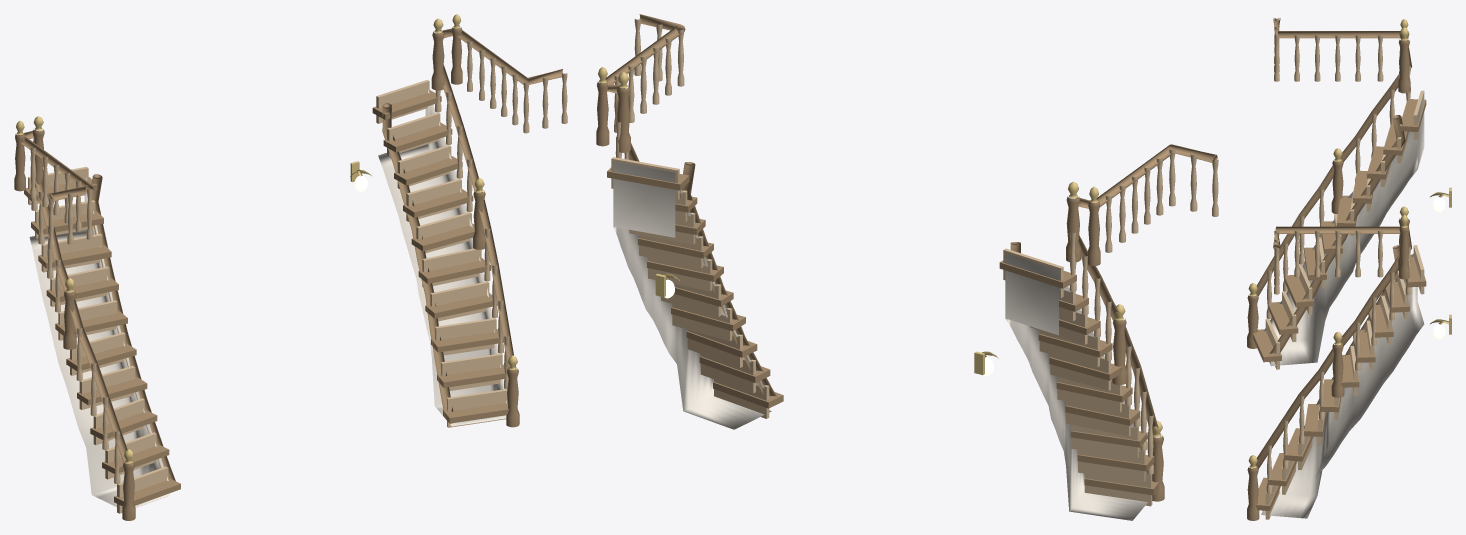
The model's file is grand_staircases.glb.
3 renders of one model, left to right at view 1: azimuth 30°, elevation 25°; view 2: azimuth 150°, elevation 25°; view 3: azimuth 270°, elevation 25°, orthographic. The views are drawn at different scales.
Visible parts, largest first — view 1: Grand_Staircases_Static; view 2: Grand_Staircases_Static; view 3: Grand_Staircases_Static, Stair_Lamp_Bulbs.
Boxes of the visible parts, x1=… form: Grand_Staircases_Static: x1=14, y1=14, x2=567, y2=520; Grand_Staircases_Static: x1=596, y1=14, x2=1218, y2=520; Grand_Staircases_Static: x1=1247, y1=18, x2=1451, y2=520; Stair_Lamp_Bulbs: x1=1433, y1=197, x2=1445, y2=339.
Size of the model in its own units: 5.42 by 3.43 by 2.02.
